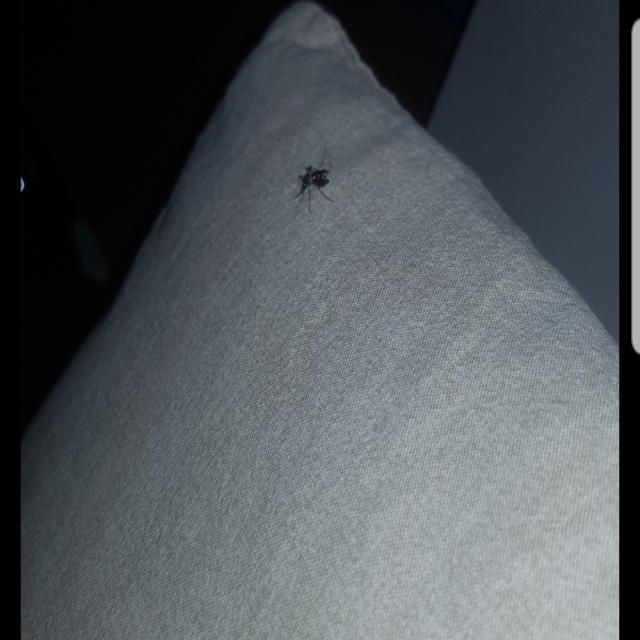albopictus: (287, 150, 341, 215)
